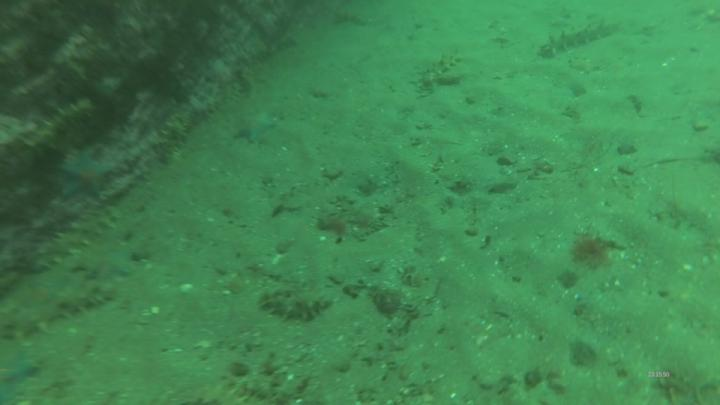holothurian: (21, 94, 95, 161), (258, 286, 333, 330), (537, 20, 622, 58), (52, 286, 120, 320), (233, 377, 301, 405), (158, 112, 188, 164), (426, 54, 464, 88)
starfish: (61, 151, 115, 203), (232, 108, 280, 147), (1, 355, 37, 405), (93, 247, 135, 284), (204, 61, 242, 91)
